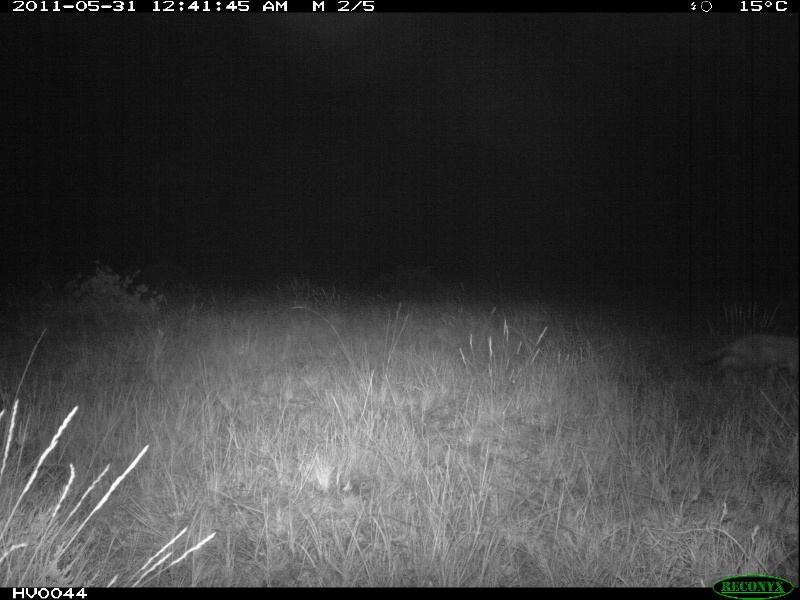fox: (696, 326, 800, 385)
